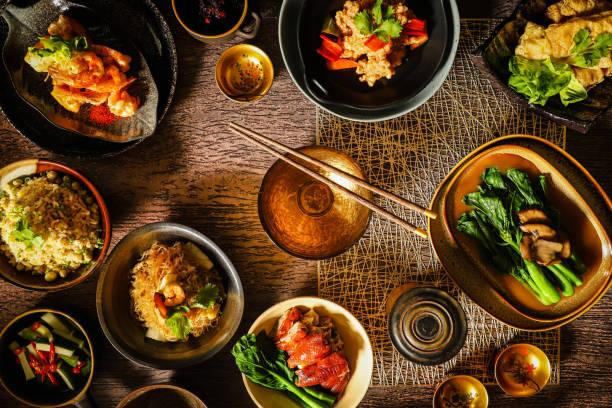Braised Crucian Carp: (427, 135, 610, 330), (2, 0, 174, 155), (278, 0, 456, 123), (95, 223, 239, 368), (471, 0, 610, 133), (1, 159, 111, 289), (241, 296, 372, 405)
